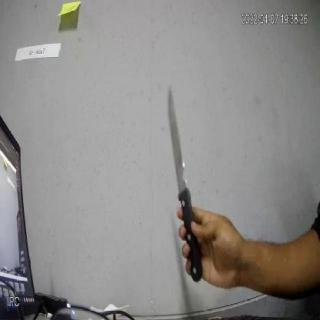knife: (165, 82, 211, 284)
